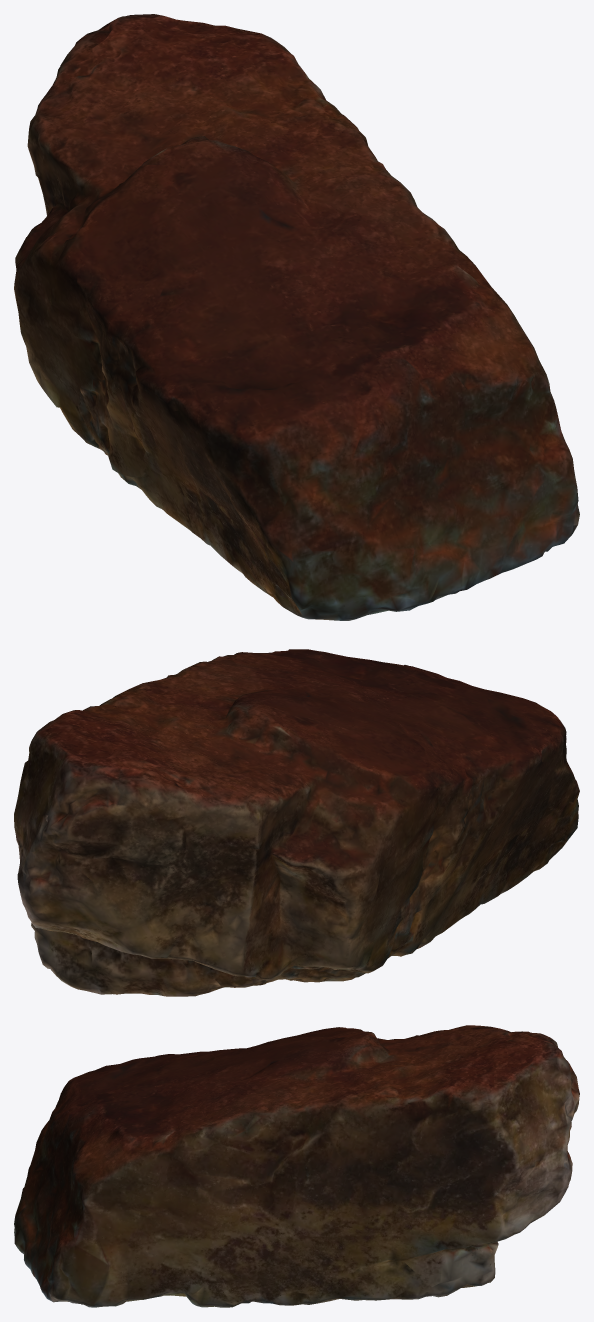
The model's file is rock_07.glb.
3 renders of one model, top to bottom at view 1: azimuth 30°, elevation 25°; view 2: azimuth 150°, elevation 25°; view 3: azimuth 270°, elevation 25°, orthographic. The views are drawn at different scales.
Parts seen in each view (by area): view 1: rock_07; view 2: rock_07; view 3: rock_07.
Part boxes in pixels (x1,y1,x2,y2): rock_07: (14, 14, 579, 620); rock_07: (14, 649, 579, 996); rock_07: (14, 1025, 579, 1307).
Size of the model in its own units: 0.1689 by 0.1437 by 0.3203.
1 material, 1 textured.
